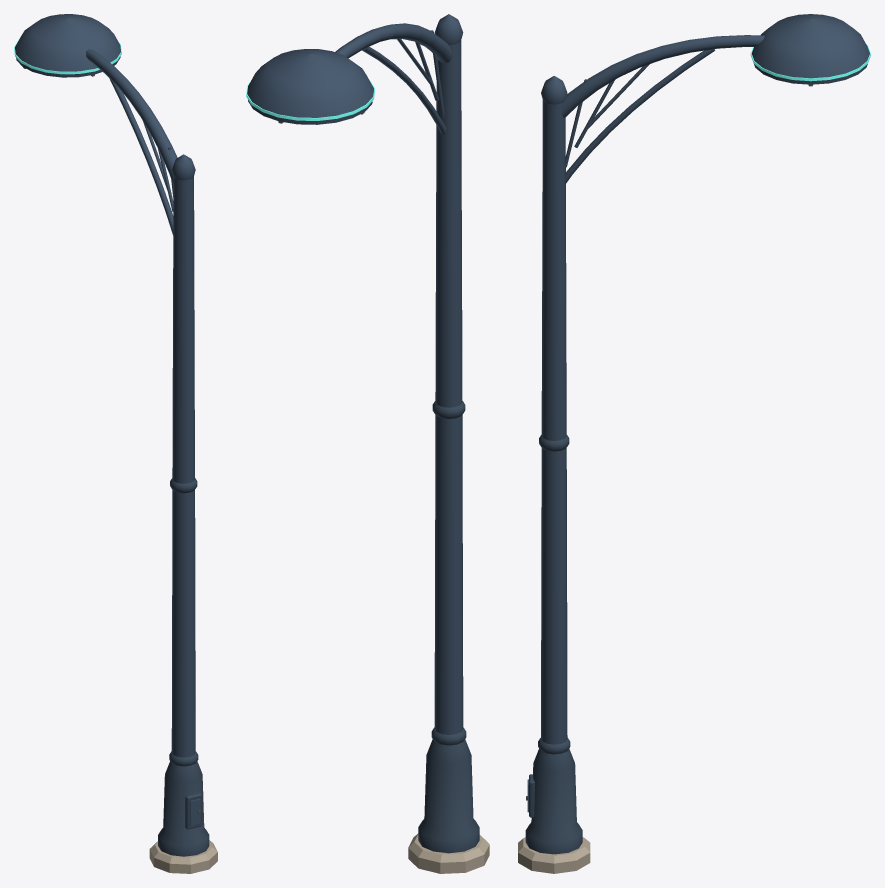
File: lamp.glb
3 views of the same model, side by side, from view 1: azimuth 30°, elevation 25°; view 2: azimuth 150°, elevation 25°; view 3: azimuth 270°, elevation 25° (orthographic). The views are drawn at different scales.
Parts seen in each view (by area): view 1: lamp.native.L0.lamp.shaft.1, lamp.native.L0.lamp.head.5, lamp.native.L0.lamp.base.0, lamp.native.L0.lamp.arm.3, lamp.native.L0.lamp.hatch.4, lamp.native.L0.lamp.cap.2; view 2: lamp.native.L0.lamp.shaft.1, lamp.native.L0.lamp.head.5, lamp.native.L0.lamp.base.0, lamp.native.L0.lamp.arm.3, lamp.native.L0.lamp.cap.2; view 3: lamp.native.L0.lamp.shaft.1, lamp.native.L0.lamp.head.5, lamp.native.L0.lamp.base.0, lamp.native.L0.lamp.arm.3.
Part boxes in pixels (x1=…): lamp.native.L0.lamp.shaft.1: x1=170, y1=176, x2=197, y2=757; lamp.native.L0.lamp.head.5: x1=14, y1=14, x2=121, y2=77; lamp.native.L0.lamp.base.0: x1=149, y1=751, x2=217, y2=873; lamp.native.L0.lamp.arm.3: x1=86, y1=49, x2=177, y2=235; lamp.native.L0.lamp.hatch.4: x1=185, y1=792, x2=202, y2=829; lamp.native.L0.lamp.cap.2: x1=172, y1=154, x2=195, y2=180; lamp.native.L0.lamp.shaft.1: x1=432, y1=40, x2=465, y2=734; lamp.native.L0.lamp.head.5: x1=246, y1=49, x2=374, y2=124; lamp.native.L0.lamp.base.0: x1=408, y1=727, x2=489, y2=873; lamp.native.L0.lamp.arm.3: x1=335, y1=23, x2=452, y2=134; lamp.native.L0.lamp.cap.2: x1=434, y1=14, x2=463, y2=44; lamp.native.L0.lamp.shaft.1: x1=539, y1=100, x2=569, y2=744; lamp.native.L0.lamp.head.5: x1=750, y1=14, x2=870, y2=86; lamp.native.L0.lamp.base.0: x1=518, y1=738, x2=590, y2=873; lamp.native.L0.lamp.arm.3: x1=561, y1=35, x2=764, y2=183.
Size of the model in its own units: 0.632 by 4.87 by 1.86.
